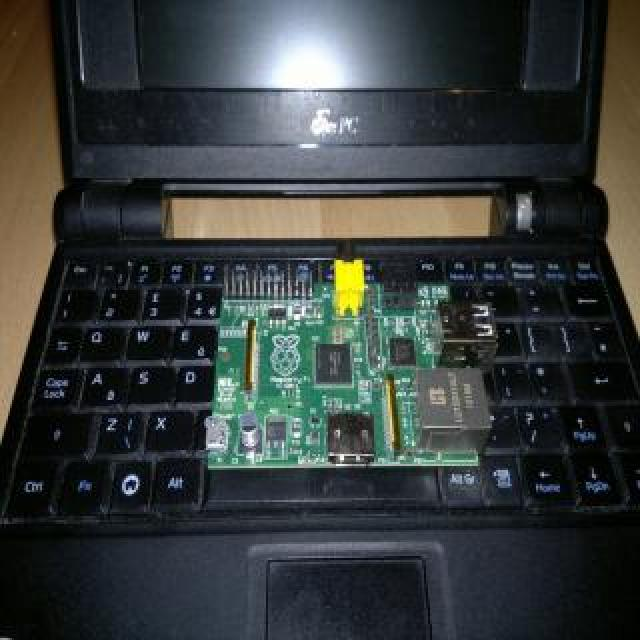laptop_computer: (34, 2, 640, 640)
